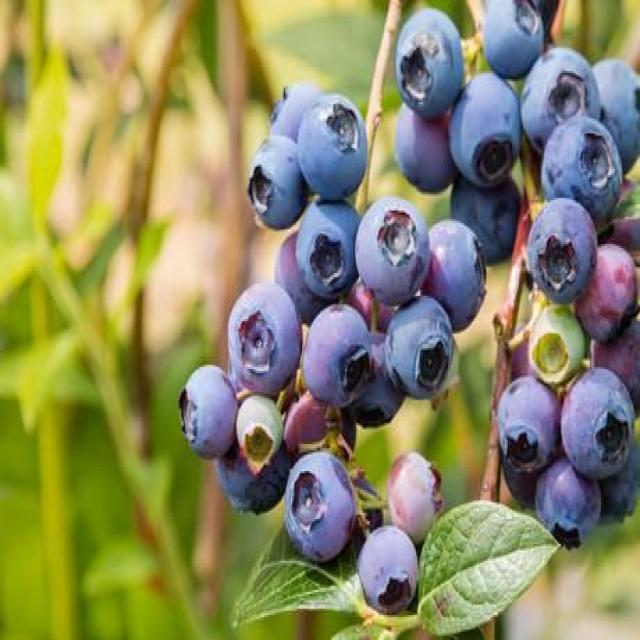BlueBerry - v1: (482, 375, 574, 490), (224, 278, 307, 404), (281, 446, 365, 567), (342, 200, 436, 300), (538, 121, 628, 225), (415, 212, 488, 338), (446, 75, 528, 186), (382, 10, 468, 114), (518, 198, 596, 311), (558, 365, 636, 477), (300, 304, 380, 413), (437, 177, 527, 265), (388, 296, 461, 402), (174, 356, 241, 467), (574, 241, 640, 352), (525, 46, 594, 150), (536, 454, 608, 550), (304, 90, 368, 196), (358, 519, 424, 619), (378, 452, 448, 544), (300, 202, 366, 296), (588, 54, 640, 173), (391, 100, 451, 200), (585, 314, 640, 423), (252, 134, 309, 238), (522, 304, 587, 388), (474, 0, 542, 77), (260, 77, 327, 154), (234, 396, 282, 482)
